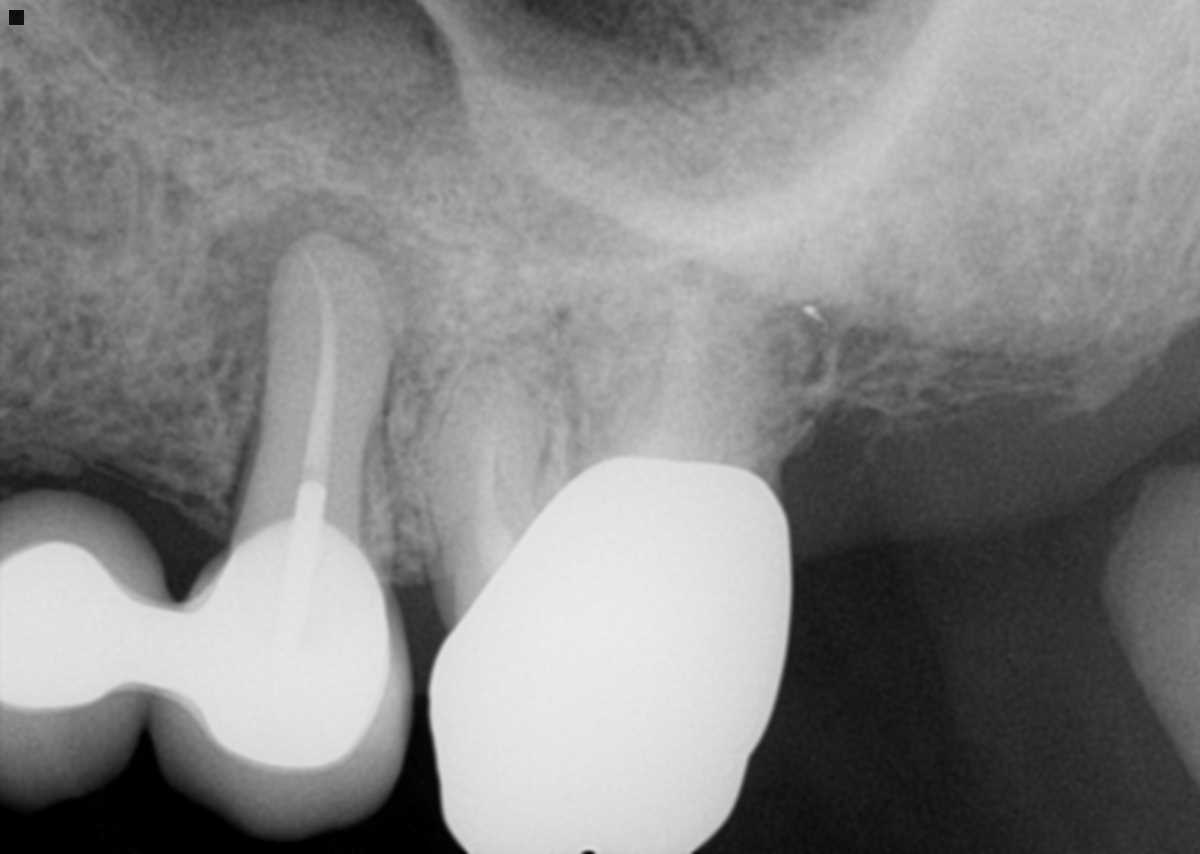Apical Lesion: (197, 186, 424, 411)
Main Root: (234, 235, 390, 538)
Mesial Root: (421, 365, 547, 607)
Root Canal Filling: (302, 245, 338, 480), (474, 422, 517, 564)
